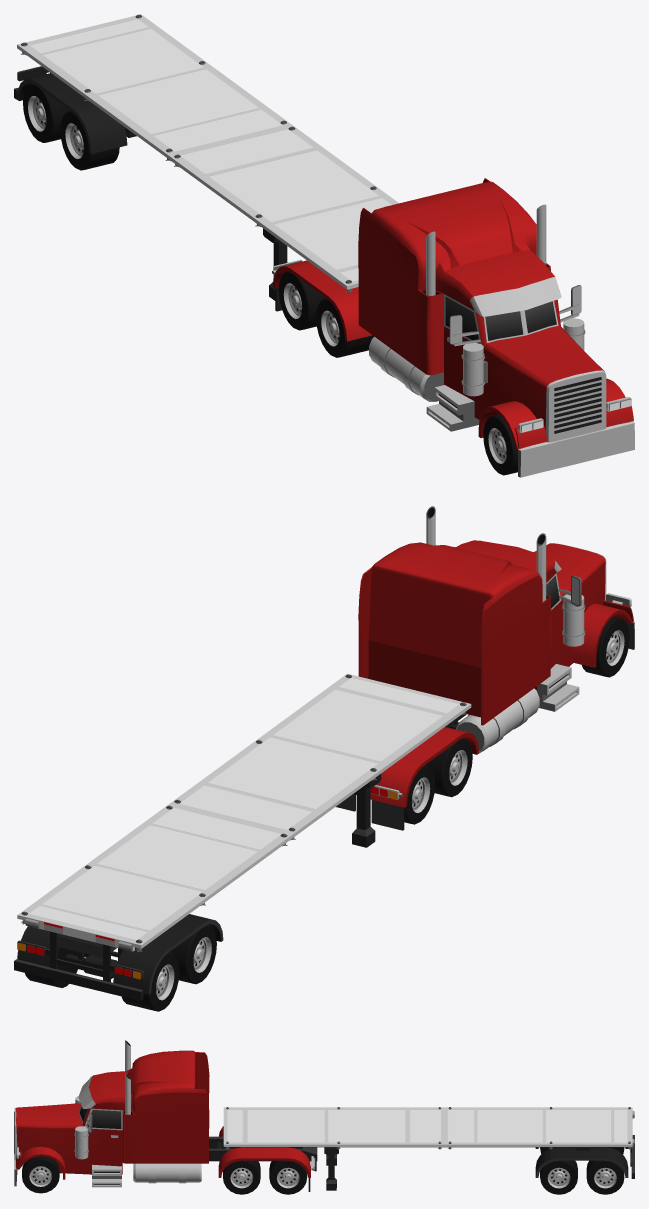
The model's file is Semi Truck.fbx.
The picture shows the model from 3 angles, top to bottom: view 1: azimuth 30°, elevation 25°; view 2: azimuth 150°, elevation 25°; view 3: azimuth 270°, elevation 25°; orthographic projection. The views are drawn at different scales.
Parts seen in each view (by area): view 1: Semi_Truck_Body, Container_Carrier, F_R (×2), B_R_2, B_R, B_R_1; view 2: Container_Carrier, Semi_Truck_Body, F_R (×2), B_R_1, B_R, B_R_2; view 3: Semi_Truck_Body, Container_Carrier, F_L (×2), B_L_1, B_L_2, B_L.
Part boxes in pixels (<box>): Semi_Truck_Body: <box>272,178,634,477</box>; Container_Carrier: <box>14,14,398,300</box>; F_R (×2): <box>60,111,519,475</box>; B_R_2: <box>278,271,325,330</box>; B_R: <box>23,84,69,142</box>; B_R_1: <box>316,298,373,357</box>; Container_Carrier: <box>14,673,471,1000</box>; Semi_Truck_Body: <box>336,506,634,830</box>; F_R (×2): <box>169,616,629,984</box>; B_R_1: <box>425,738,472,796</box>; B_R: <box>122,952,179,1011</box>; B_R_2: <box>404,765,435,824</box>; Semi_Truck_Body: <box>14,1040,317,1191</box>; Container_Carrier: <box>223,1107,634,1190</box>; F_L (×2): <box>22,1156,577,1194</box>; B_L_1: <box>223,1160,260,1194</box>; B_L_2: <box>269,1160,307,1194</box>; B_L: <box>586,1160,624,1194</box>.
Size of the model in its own units: 241 by 333 by 1580.
